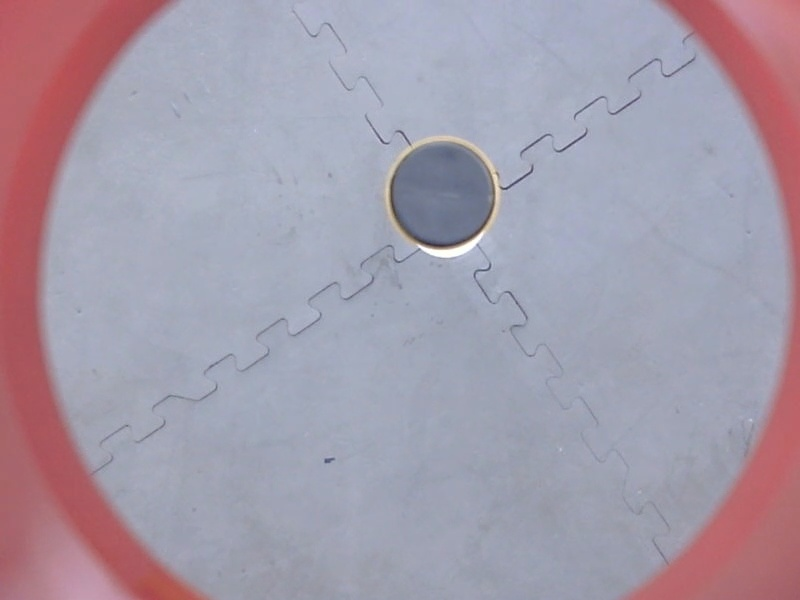tip: (379, 130, 507, 254)
